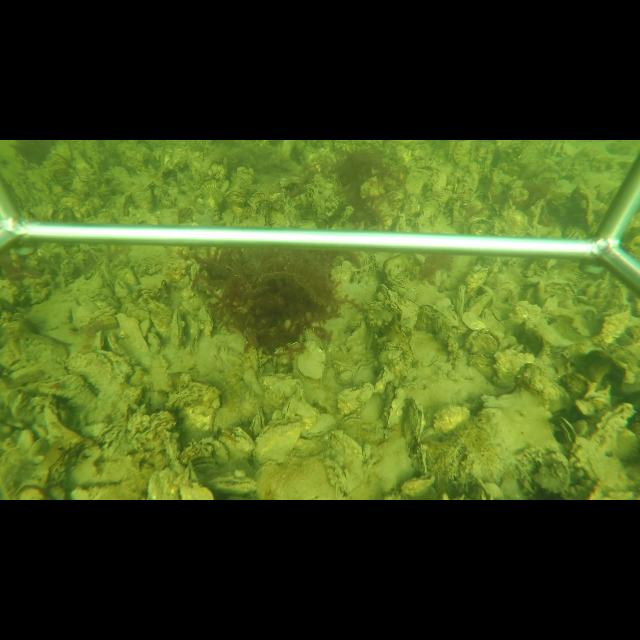Oyster-Closed: (165, 381, 221, 439), (328, 430, 367, 493), (253, 418, 302, 466), (118, 314, 151, 357), (296, 339, 329, 381), (218, 426, 255, 460), (210, 473, 260, 492), (302, 412, 338, 438), (384, 387, 405, 429), (465, 330, 502, 353), (407, 397, 425, 440), (169, 308, 185, 348), (374, 364, 392, 394), (200, 304, 215, 338), (249, 407, 264, 435), (187, 260, 198, 293)
Oyster-Open: (558, 415, 576, 444)
